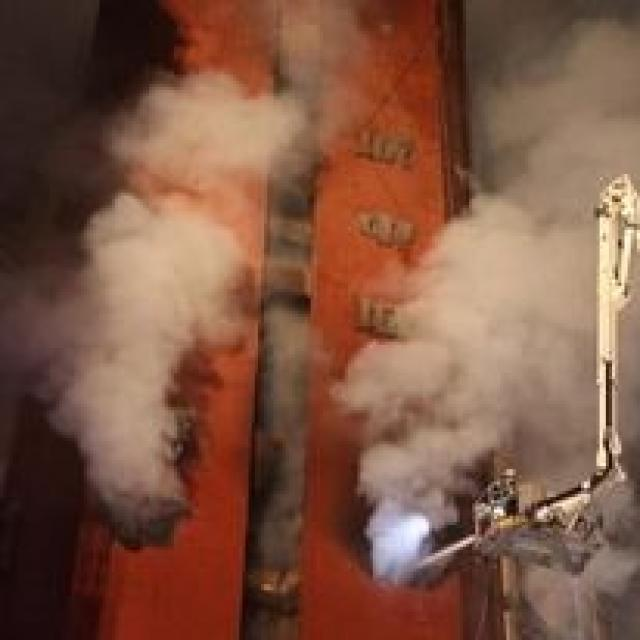Smoke: (0, 5, 380, 554), (333, 18, 640, 576)
